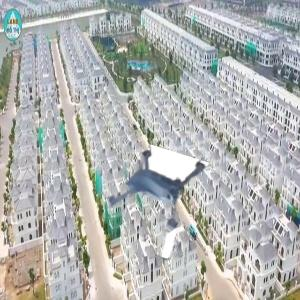drone: (87, 145, 200, 258)
